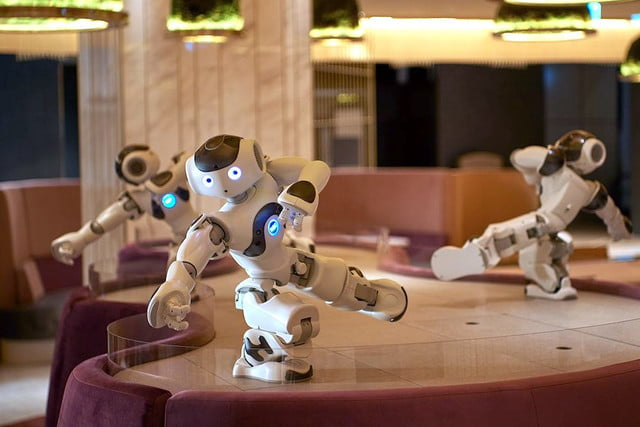nao: (130, 133, 418, 383), (428, 85, 640, 316), (48, 127, 213, 286)
